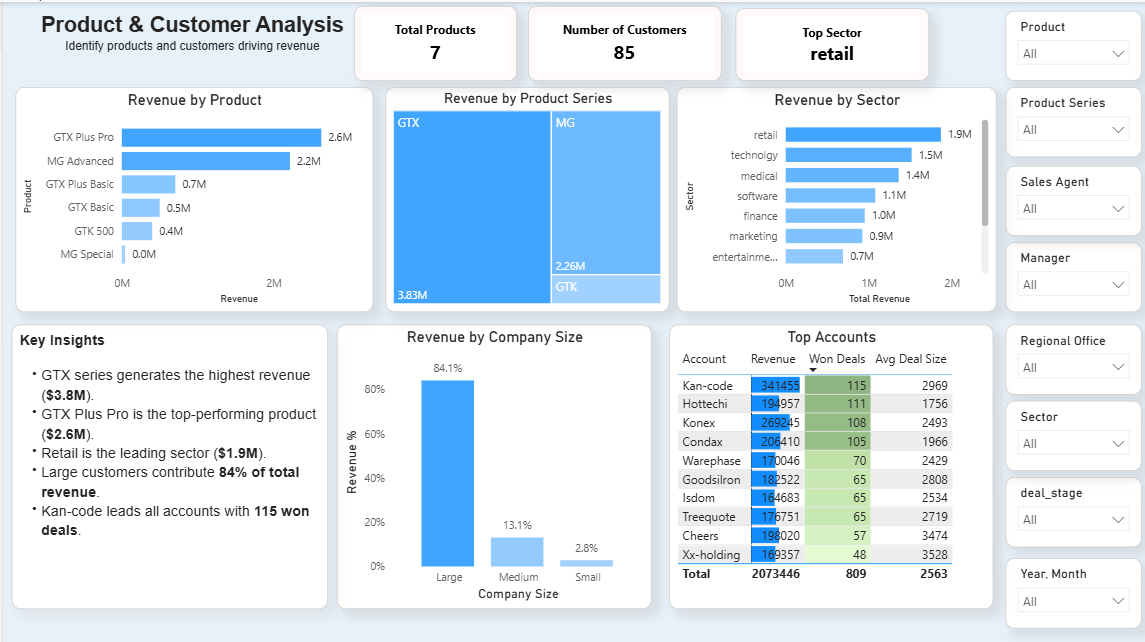

This screenshot's page, from the dashboard's own definition file:
{"tool":"powerbi","page":{"name":"Product & Customer Analysis","canvas":[1280,720],"ordinal":3},"visuals":[{"type":"columnChart","title":"Revenue by Company Size","fields":{"Category":["accounts.Company Size"],"Y":["Measures_table.Revenue %"]},"box":[372.4,359.8,351.5,318],"z":0},{"type":"textbox","box":[9.8,7,403.1,83.7],"z":1000},{"type":"slicer","fields":{"Values":["products.product"]},"box":[1118.5,9.8,152,78.1],"z":2000},{"type":"slicer","fields":{"Values":["products.series"]},"box":[1118.5,94.8,152,78.1],"z":3000},{"type":"slicer","fields":{"Values":["sales_teams.manager"]},"box":[1118.5,267.8,152,78.1],"z":4000},{"type":"slicer","fields":{"Values":["sales_teams.regional_office"]},"box":[1118.5,359.8,152,78.1],"z":5000},{"type":"slicer","fields":{"Values":["sales_pipeline.deal_stage"]},"box":[1118.5,530,152,78.1],"z":6000},{"type":"slicer","fields":{"Values":["accounts.sector"]},"box":[1118.5,444.9,152,78.1],"z":7000},{"type":"slicer","fields":{"Values":["sales_pipeline.engage_date.Variation.Date Hierarchy.Year","sales_pipeline.engage_date.Variation.Date Hierarchy.Month"]},"box":[1118.5,620.6,152,78.1],"z":8000},{"type":"textbox","box":[9.8,359.8,352.8,318],"z":9000},{"type":"slicer","fields":{"Values":["sales_pipeline.sales_agent"]},"box":[1118.5,182.7,152,78.1],"z":10000},{"type":"clusteredBarChart","title":"Revenue by Product","fields":{"Y":["Measures_table.Total Revenue"],"Category":["products.product"]},"box":[13.9,94.8,398.9,251],"z":11000},{"type":"treemap","title":"Revenue by Product Series","fields":{"Group":["products.series"],"Values":["Measures_table.Total Revenue"]},"box":[426.8,94.8,316.6,251],"z":12000},{"type":"clusteredBarChart","title":"Revenue by Sector","fields":{"Y":["Measures_table.Total Revenue"],"Category":["accounts.sector"]},"box":[751.7,94.8,357,251],"z":13000},{"type":"tableEx","title":"Top Accounts","fields":{"Values":["sales_pipeline.account","Measures_table.Total Revenue","Measures_table.Won Deals","Measures_table.Avg Deal Size"]},"box":[743.3,359.8,361.2,318],"z":14000},{"type":"cardVisual","title":"Total Revenue","fields":{"Data":["Measures_table.Total Products"]},"box":[391.9,4.2,181.3,83.7],"z":15000},{"type":"cardVisual","title":"Total Revenue","fields":{"Data":["Count(accounts.employees)"]},"box":[585.8,4.2,216.2,83.7],"z":16000},{"type":"cardVisual","title":"Total Revenue","fields":{"Data":["Measures_table.Top Sector"]},"box":[817.3,7,216.2,80.9],"z":17000}]}

Visuals, with their boxes in screenshot pixels (x1, y1, x2, y2), scaled from the page's 1280x720 canvas onto the 1145x642 screenshot:
"Revenue by Company Size" columnChart: <region>333, 321, 648, 604</region>
textbox: <region>9, 6, 369, 81</region>
slicer - products.product: <region>1001, 9, 1137, 78</region>
slicer - products.series: <region>1001, 85, 1137, 154</region>
slicer - sales_teams.manager: <region>1001, 239, 1137, 308</region>
slicer - sales_teams.regional_office: <region>1001, 321, 1137, 390</region>
slicer - sales_pipeline.deal_stage: <region>1001, 473, 1137, 542</region>
slicer - accounts.sector: <region>1001, 397, 1137, 466</region>
slicer - sales_pipeline.engage_date.Variation.Date Hierarchy.Year x sales_pipeline.engage_date.Variation.Date Hierarchy.Month: <region>1001, 553, 1137, 623</region>
textbox: <region>9, 321, 324, 604</region>
slicer - sales_pipeline.sales_agent: <region>1001, 163, 1137, 233</region>
"Revenue by Product" clusteredBarChart: <region>12, 85, 369, 308</region>
"Revenue by Product Series" treemap: <region>382, 85, 665, 308</region>
"Revenue by Sector" clusteredBarChart: <region>672, 85, 992, 308</region>
"Top Accounts" tableEx: <region>665, 321, 988, 604</region>
"Total Revenue" cardVisual: <region>351, 4, 513, 78</region>
"Total Revenue" cardVisual: <region>524, 4, 717, 78</region>
"Total Revenue" cardVisual: <region>731, 6, 924, 78</region>
